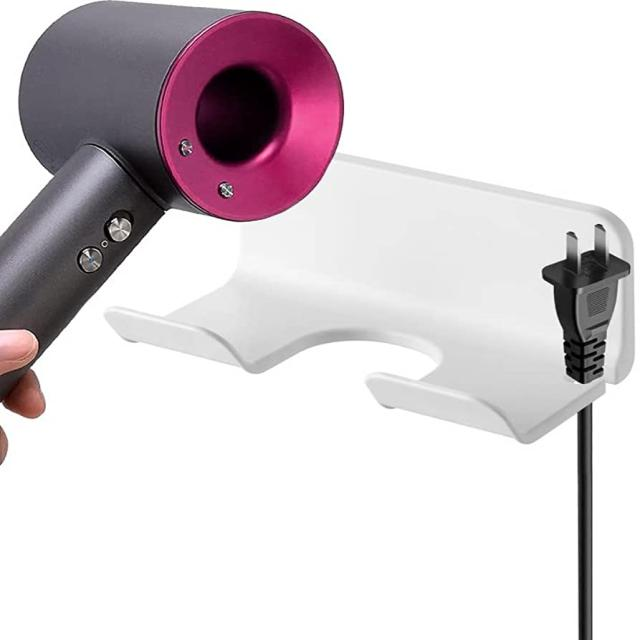dryer: (7, 1, 355, 403)
